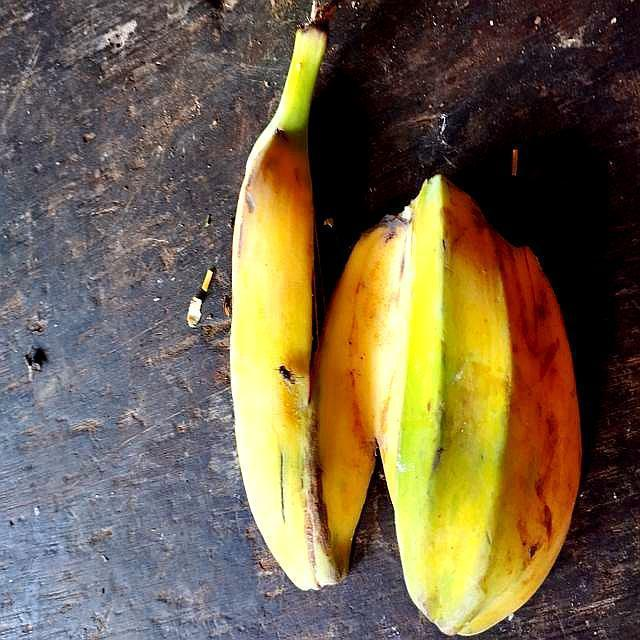Biodegradable: (225, 71, 573, 637)
